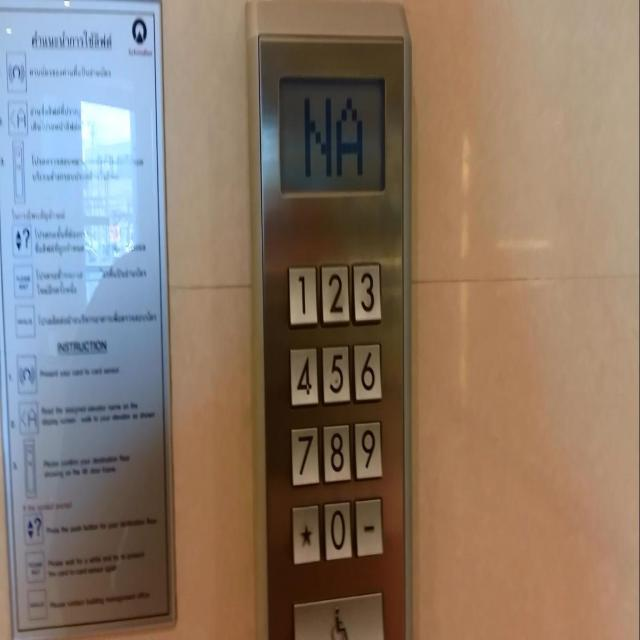-: (354, 496, 383, 556)
0: (324, 500, 352, 560)
1: (287, 265, 317, 324)
2: (321, 264, 349, 324)
3: (352, 262, 381, 323)
4: (290, 347, 318, 404)
5: (322, 345, 350, 403)
6: (353, 342, 381, 403)
7: (290, 427, 320, 485)
8: (322, 423, 351, 482)
9: (354, 421, 382, 480)
CH: (293, 591, 384, 639)
led: (274, 63, 389, 199)
s: (292, 504, 321, 564)
